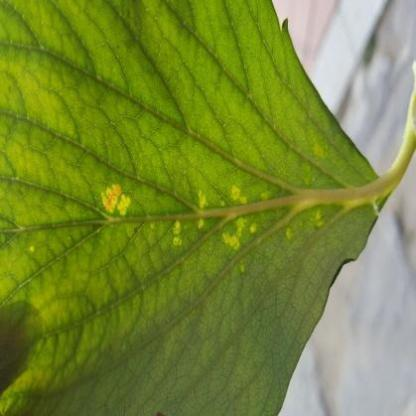Strawberry_Angular_LeafSpot: (24, 174, 339, 275)
